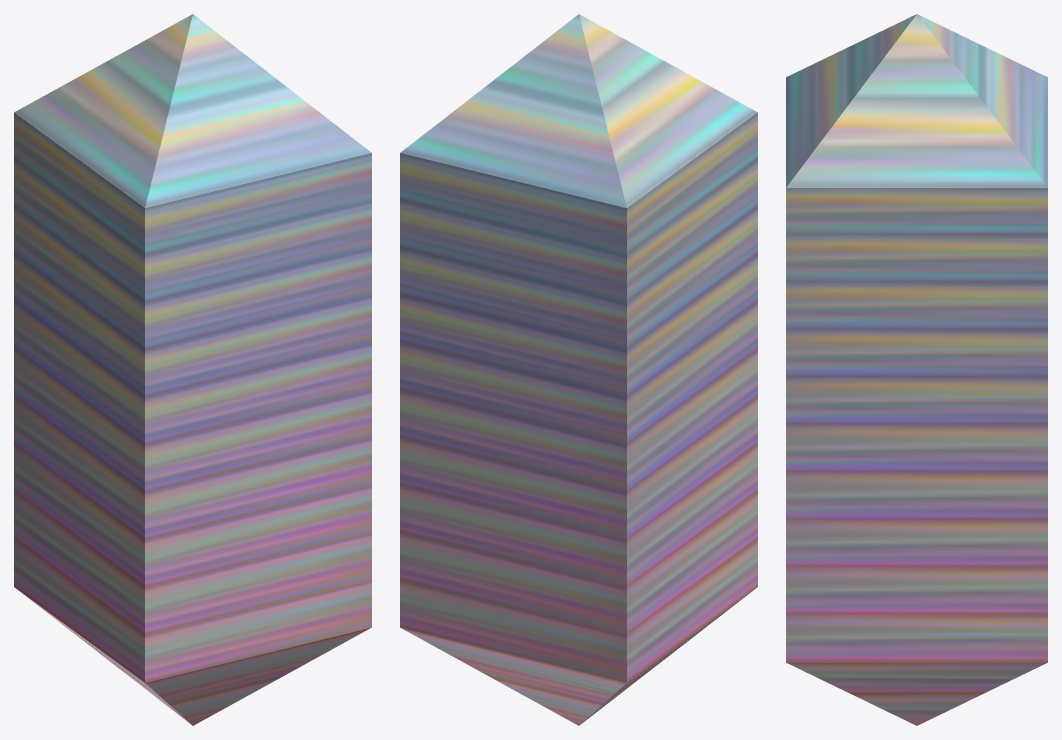
The model's file is station_disenchanter_crystal.obj.
The picture shows the model from 3 angles, left to right: view 1: azimuth 30°, elevation 25°; view 2: azimuth 150°, elevation 25°; view 3: azimuth 270°, elevation 25°; orthographic projection.
Parts seen in each view (by area): view 1: DISENCHANTER_CRYSTAL_Cube.010; view 2: DISENCHANTER_CRYSTAL_Cube.010; view 3: DISENCHANTER_CRYSTAL_Cube.010.
Boxes of the visible parts, box(x1,y1,x2,y2) form: DISENCHANTER_CRYSTAL_Cube.010: box(14, 14, 371, 725); DISENCHANTER_CRYSTAL_Cube.010: box(400, 14, 757, 725); DISENCHANTER_CRYSTAL_Cube.010: box(786, 14, 1047, 725).
Bounding box in the file's own units: 0.125 × 0.375 × 0.125.
